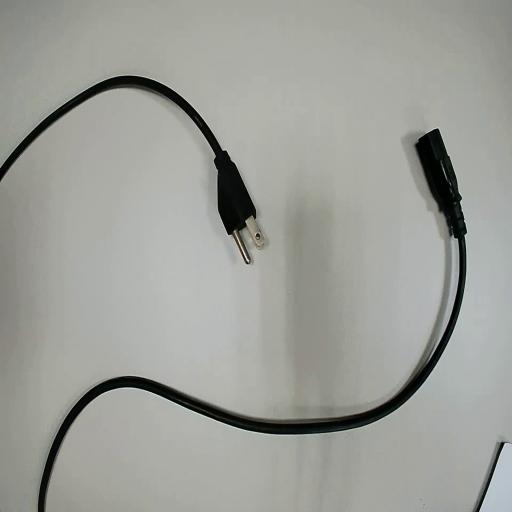wire: (38, 130, 465, 511), (0, 76, 255, 233)
